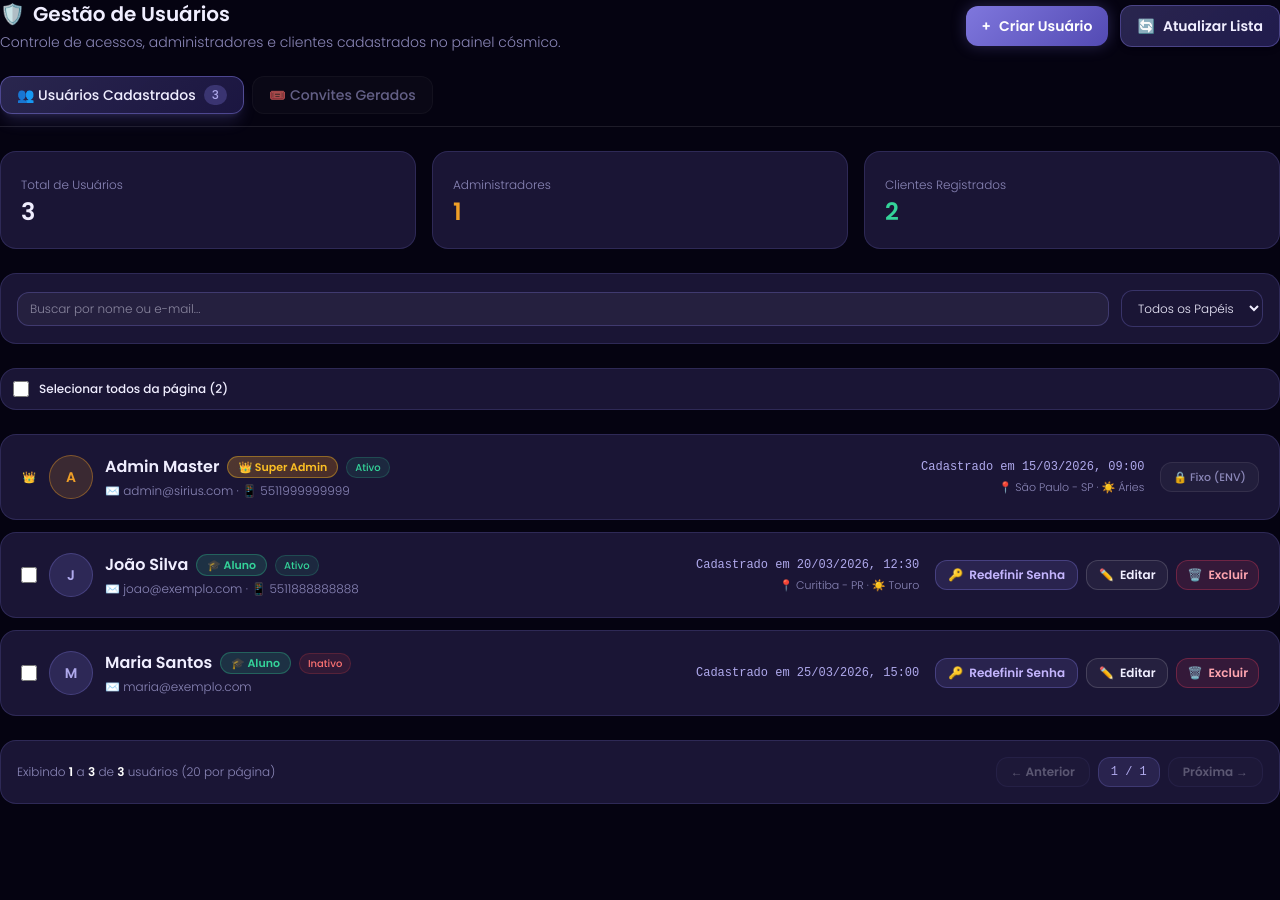
GestaoUsuarios Component › abre o modal de gerar convite ao clicar no botão Criar Usuário
Expected: the text "Admin Master" is shown, [105,455,219,479]
Click the button with test id "open-create-user-modal-btn": (1037, 26) [966,6,1108,46]
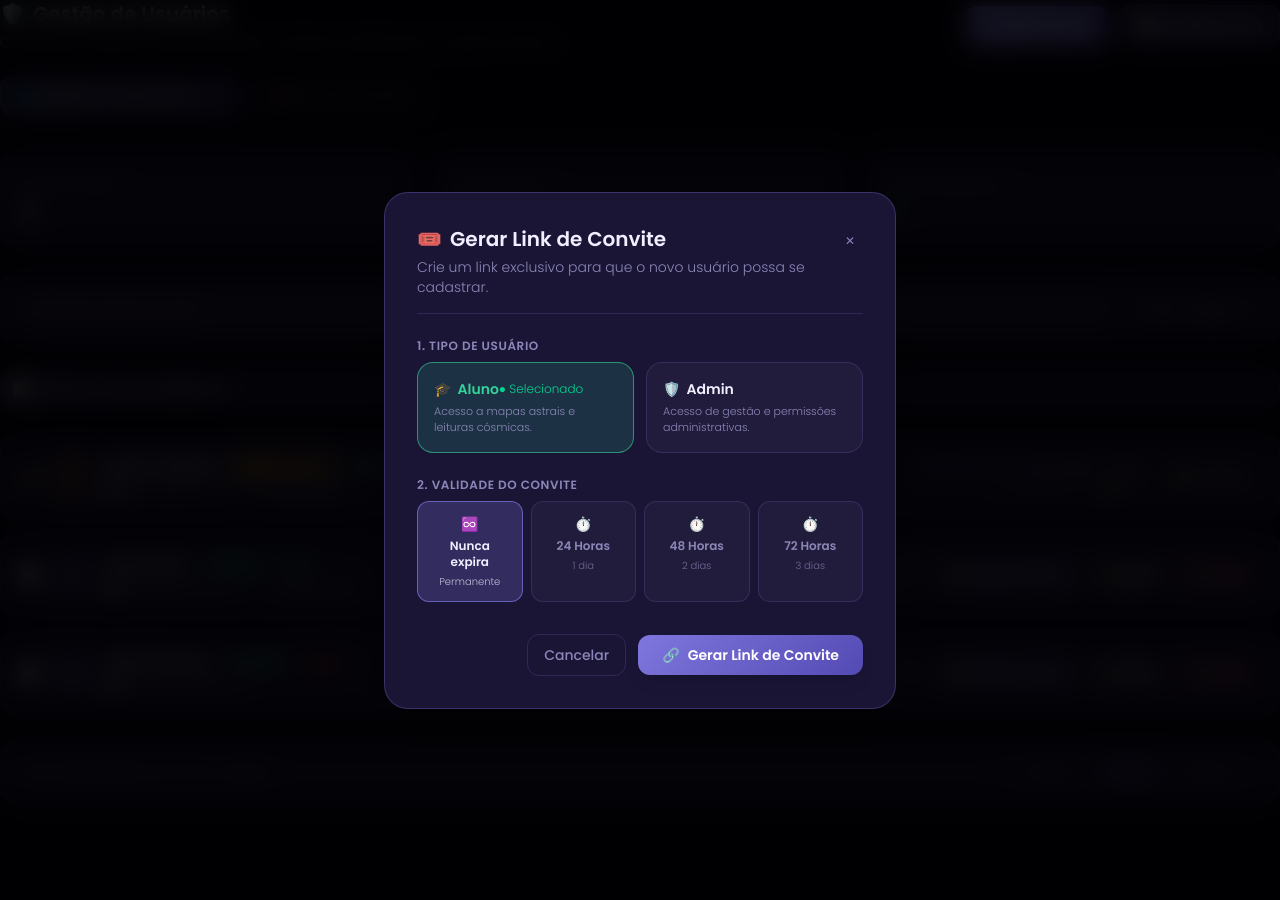
Result: the element with test id "gerar-convite-modal-backdrop" is shown
